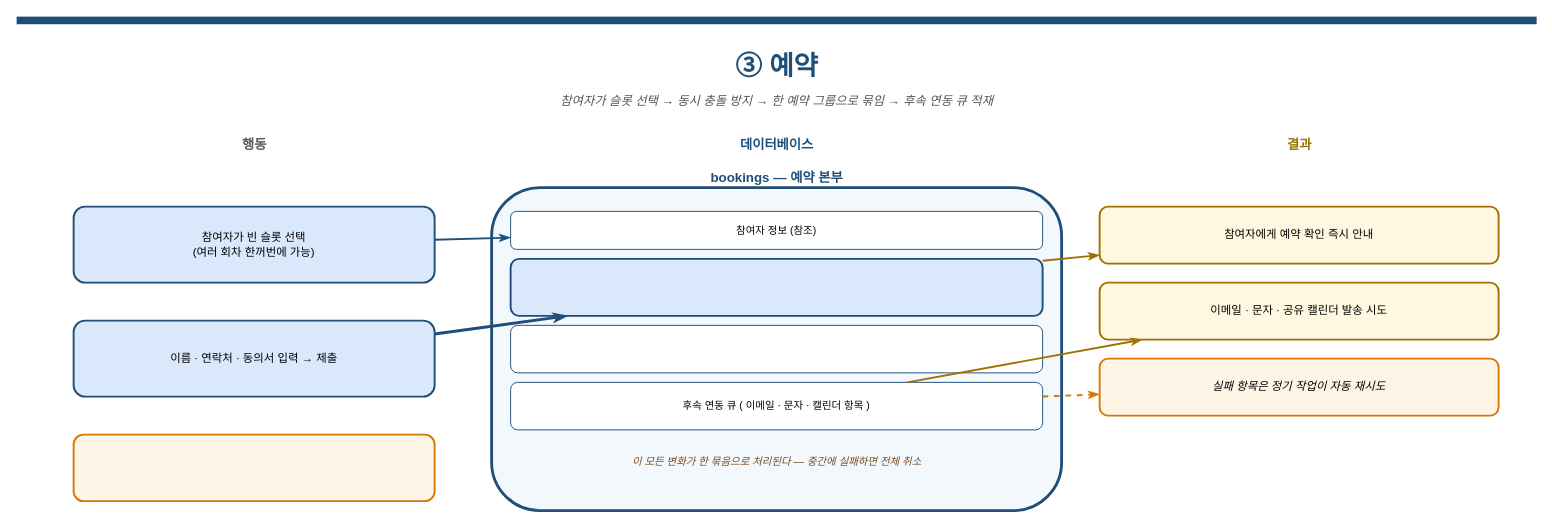
The diagram is 1552 pixels wide and 528 high, and some of its shapes have lost their labels. The centre of each missing label's shape, as x and y in pixels:
공유 캘린더 빈 시간 캐시 → 무효화: point 776,348
동일 슬롯에 두 사람이 동시에 제출하면 한 사람만 통과되고 다른 사람에게는 "마감"을 안내: point 253,467
예약 행 ( 한 행 = 한 슬롯, 같은 그룹이면 다회차 묶음 ): point 776,286
